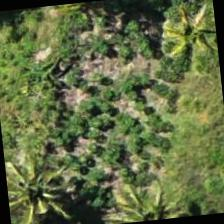Kelapa_Sawit: (3, 141, 86, 223), (139, 0, 221, 81), (106, 169, 201, 223)
